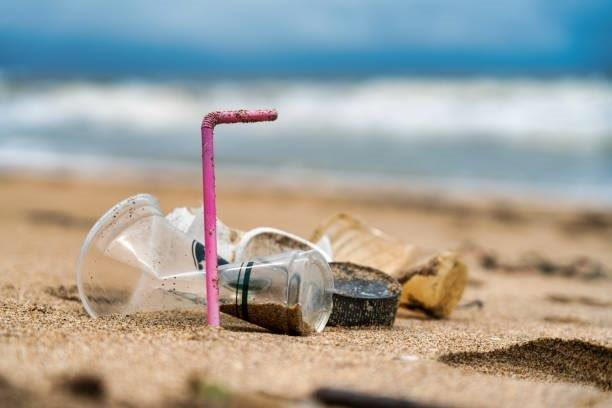sedotan: (204, 109, 279, 328)
